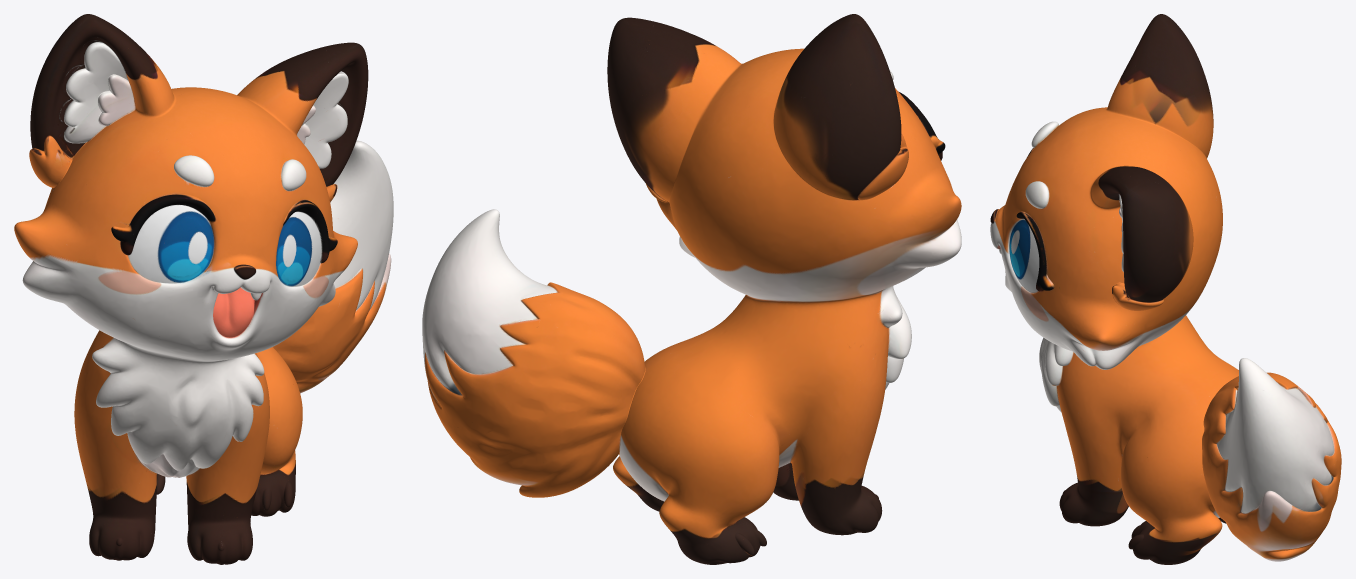
Rendered from Meshy_AI_Bright_Eyed_Fox_Pup_1008172248_texture.glb.
3 renders of one model, left to right at view 1: azimuth 30°, elevation 25°; view 2: azimuth 150°, elevation 25°; view 3: azimuth 270°, elevation 25°, orthographic. The views are drawn at different scales.
Bounding box in the file's own units: 1.69 × 1.9 × 1.3.
1 material, 1 textured.
